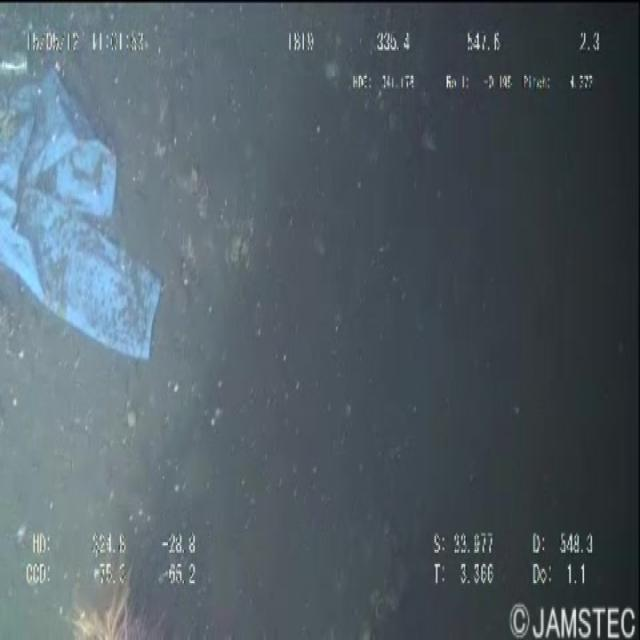Accessories: (0, 79, 156, 365)
Metal: (0, 33, 39, 86)
